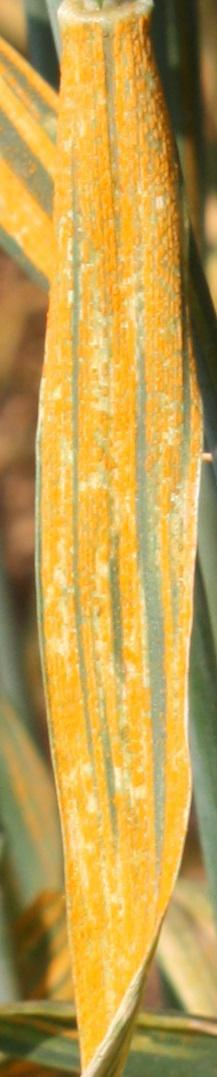Wheat: (47, 481, 199, 898), (43, 86, 194, 497)
